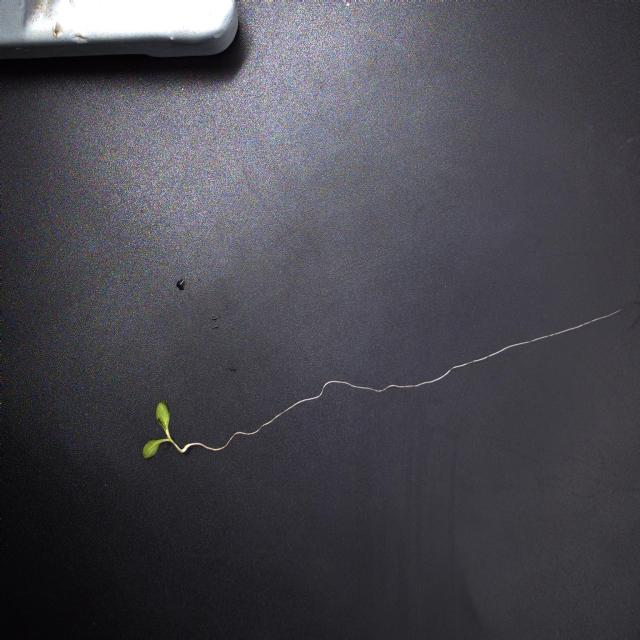leaf: (140, 438, 164, 459)
root: (185, 300, 631, 459)
steb: (165, 434, 183, 461)
